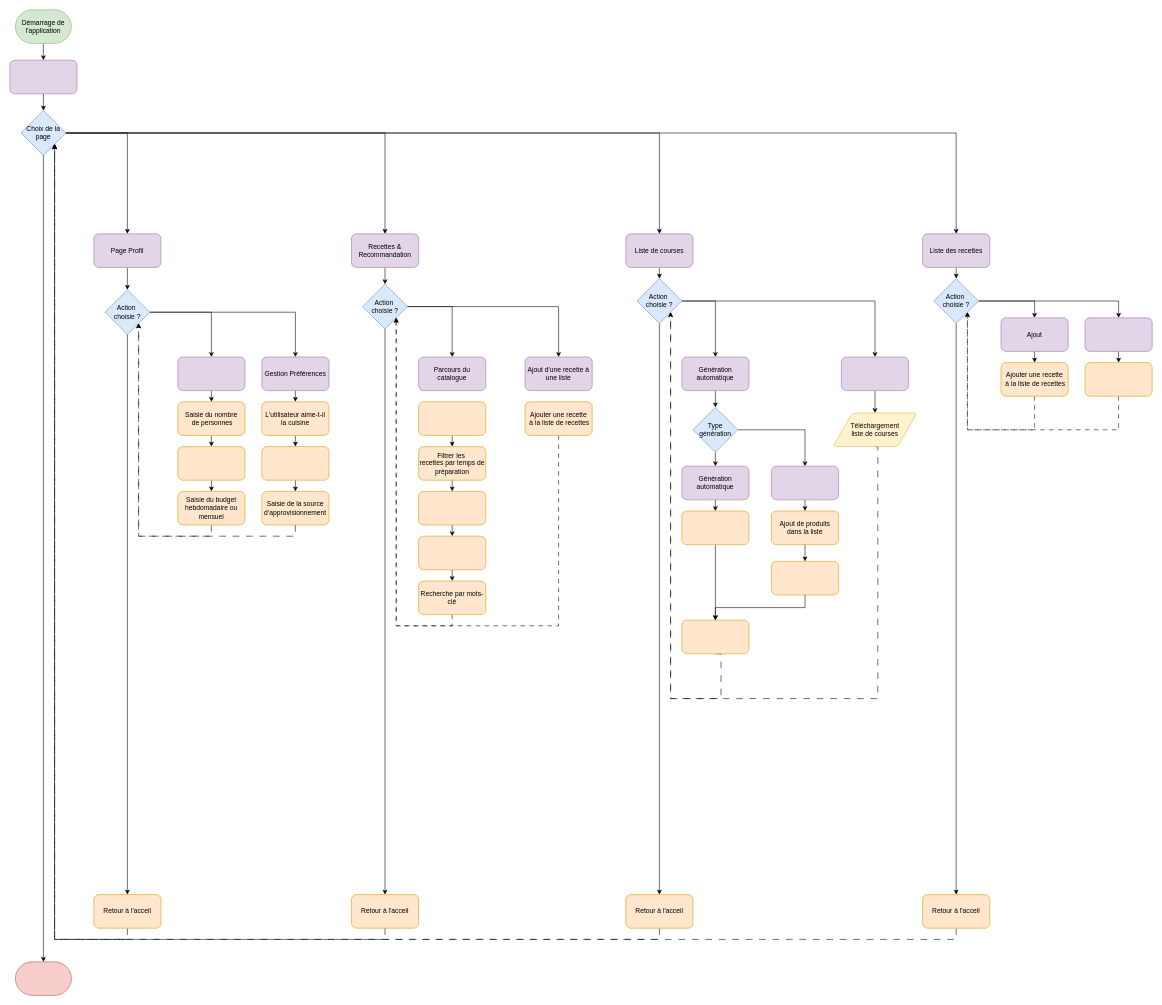
Image size: 1162x1005. Some labels were removed from this diagram. Each missing label, with the box of its shape:
Arrivée sur la page d'accueil: (9, 60, 77, 94)
Création profil utilisateur: (177, 356, 245, 391)
Export: (841, 356, 909, 391)
Filtrer les recettes par nombre d'ingrédients: (418, 491, 486, 525)
Filtrer les recettes par repas: (418, 401, 486, 435)
Filtrer les recettes par régime alimentaire: (418, 536, 486, 570)
Génération manuelle: (771, 466, 839, 500)
Regroupement par rayon: (681, 620, 749, 654)
Récupération des ingrédients selon les recettes: (681, 510, 749, 545)
Saisie des régimes alimentaires: (177, 446, 245, 480)
Saisie du temps dispomible moyen: (261, 446, 329, 480)
Sortie de l'application: (15, 961, 71, 995)
Suppression: (1084, 317, 1152, 351)
Suppression de produits dans la liste: (771, 561, 839, 595)
Supprimer une recette de la liste de recettes: (1084, 362, 1152, 396)
